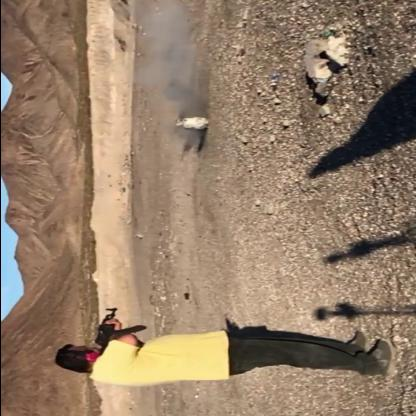long weapon: (82, 298, 138, 362)
